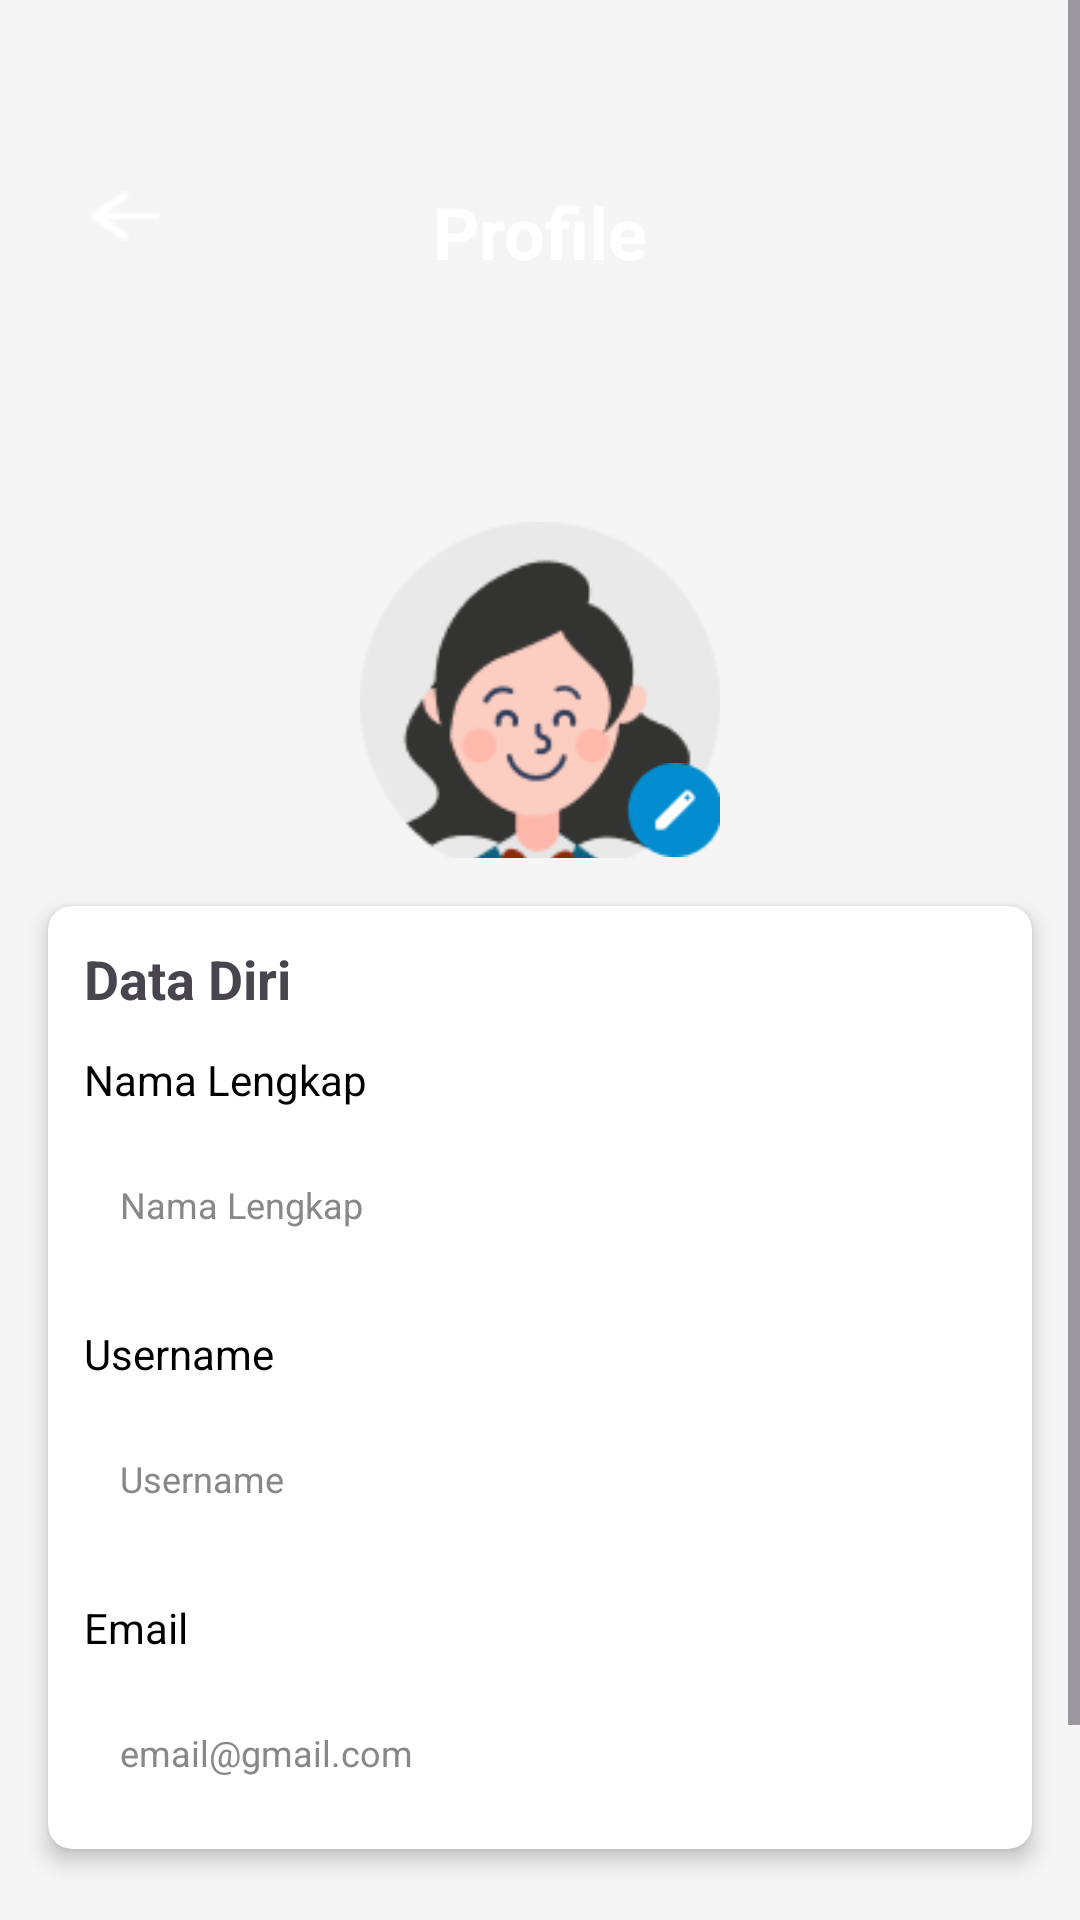

Screen size 1080px×1920px. Icon name, then its center in pixels as [x,y]:
edit gambar: [672,809]
